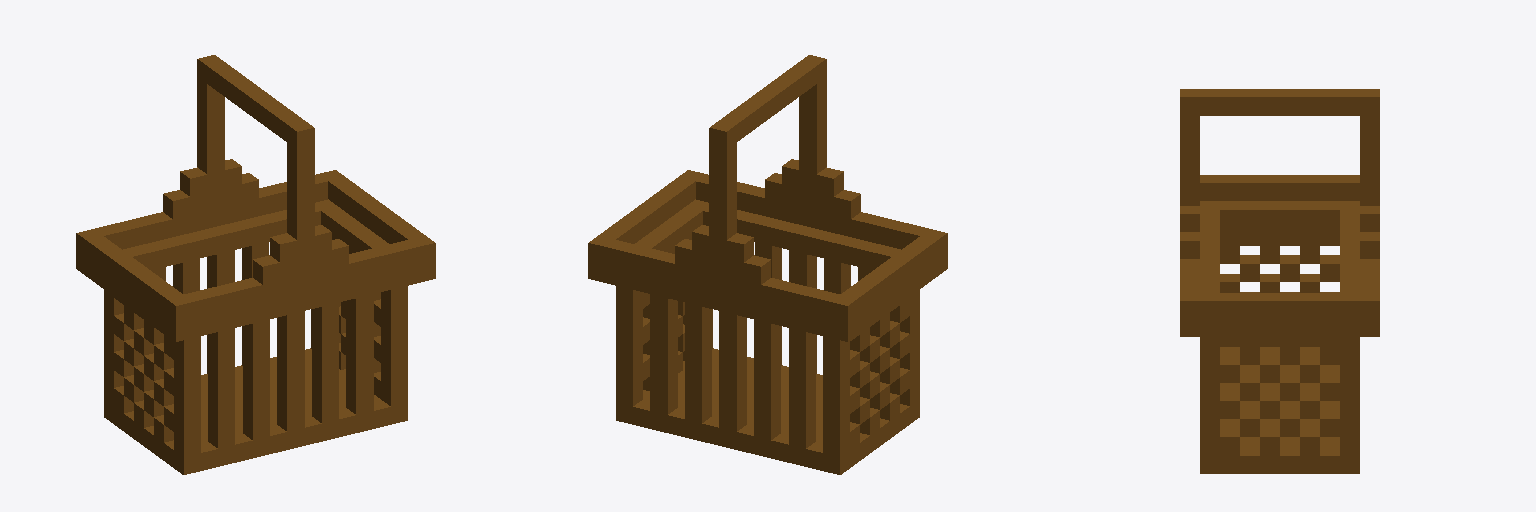
3 renders of one model, left to right at view 1: azimuth 30°, elevation 25°; view 2: azimuth 150°, elevation 25°; view 3: azimuth 270°, elevation 25°, orthographic.
Parts seen in each view (by area): view 1: object 1; view 2: object 1; view 3: object 1.
Boxes of the visible parts, <box> form: object 1: <box>76,55,435,474</box>; object 1: <box>588,55,947,474</box>; object 1: <box>1180,89,1379,473</box>.
Bounding box in the file's own units: 1.5 × 1.8 × 1.
Materials: 1 (1 with a texture image).